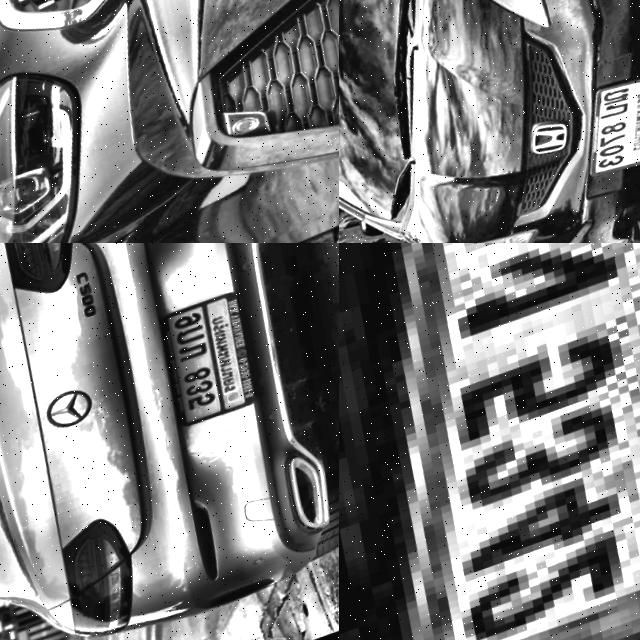license-plate: (339, 243, 640, 640), (152, 296, 271, 442), (572, 72, 640, 197)
